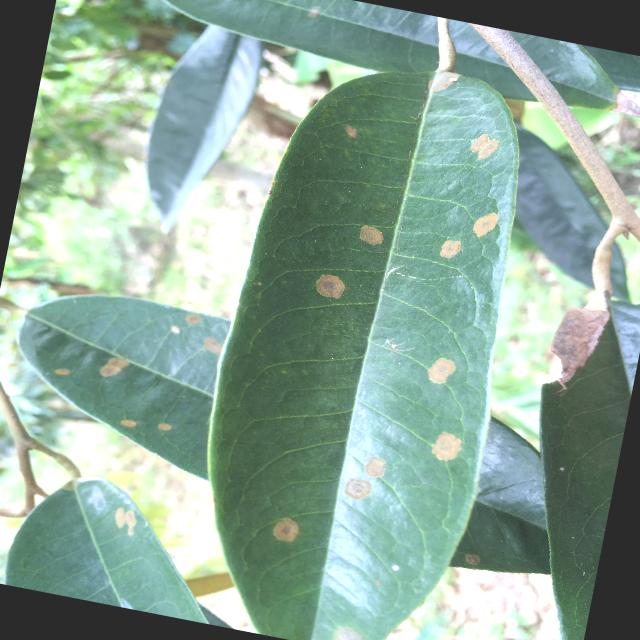Algal Leaf Spot: (164, 25, 571, 639)
